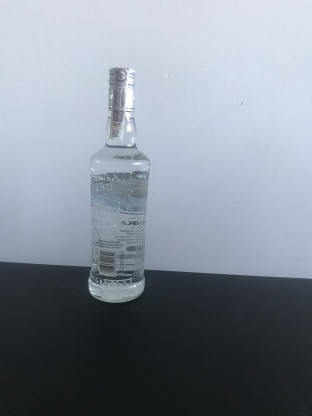nakretka: (105, 61, 137, 114)
